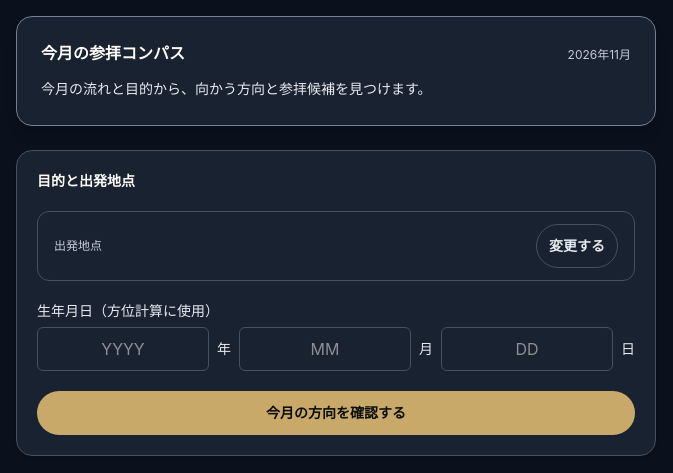
it: CompassClient › 数字以外を入力値として採用しない
Type "19a9" into the field named "生年月日の年" at (123, 349), box [37,327,209,371]
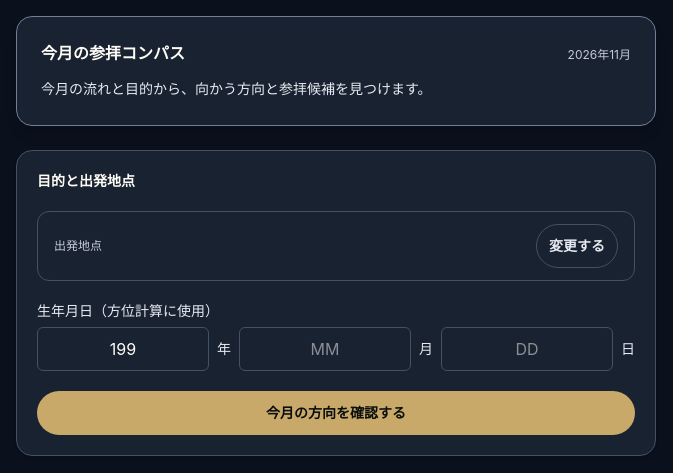
Type "0x5" into the field named "生年月日の月" at (325, 349), box [239,327,411,371]
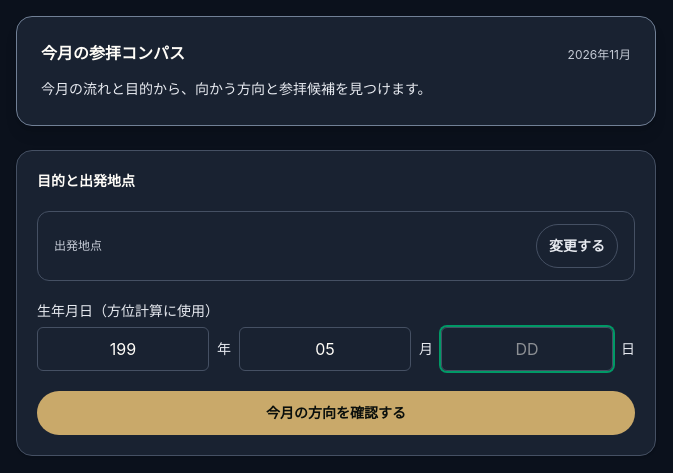
Type "1z5" into the field named "生年月日の日" at (527, 349), box [441,327,613,371]
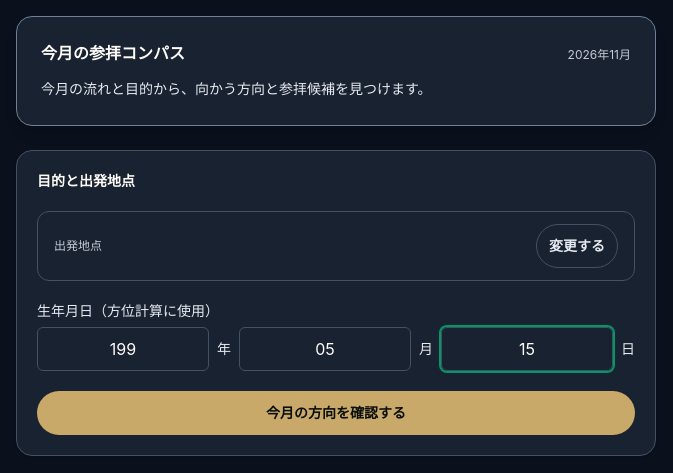
Check: the field named "生年月日の年" holds "199", box [37,327,209,371]
Check: the field named "生年月日の月" holds "05", box [239,327,411,371]
Check: the field named "生年月日の日" holds "15", box [441,327,613,371]
